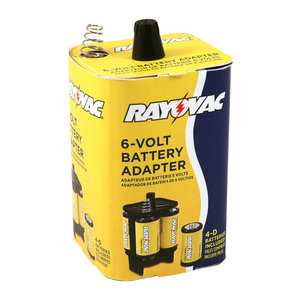6V: (63, 16, 239, 284)
